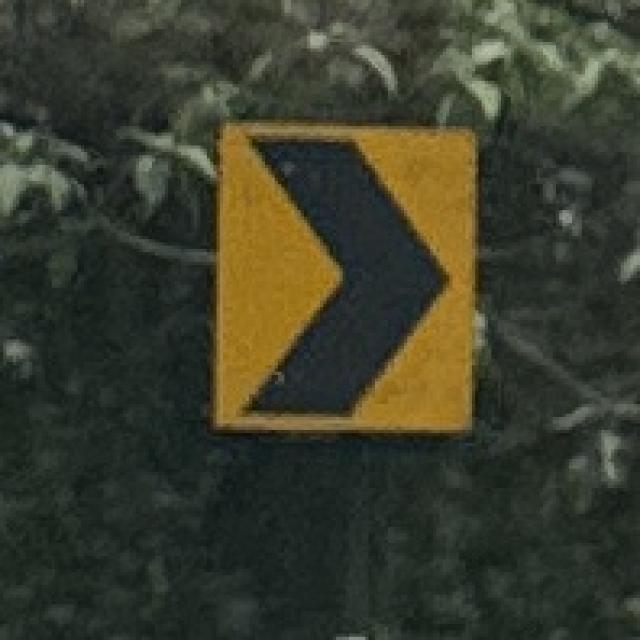TURN_RIGHT: (213, 116, 481, 434)
